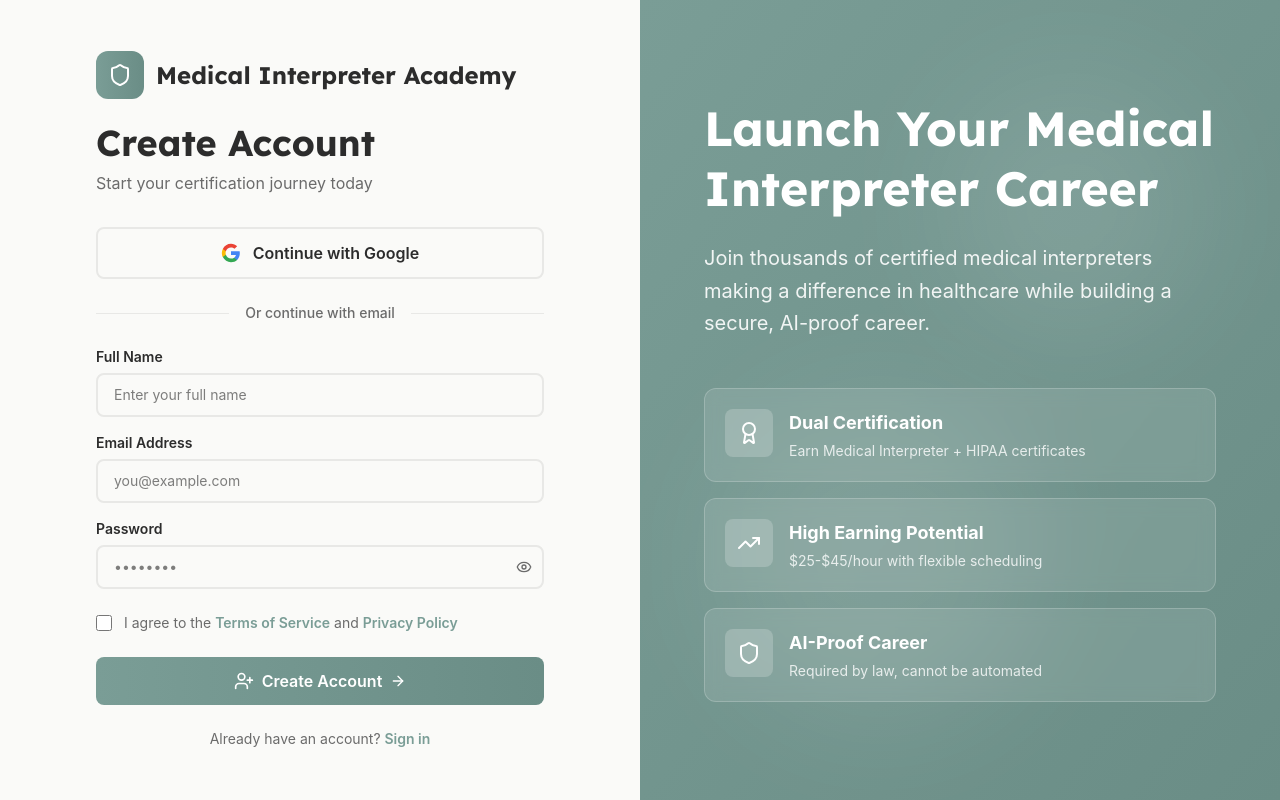
Test: Register Page › Form Validation › should show error if terms not agreed
The width and height of the screenshot is (1280, 800).
In the field labelled "Full Name": (320,395) [96,373,544,417], type "John Doe"
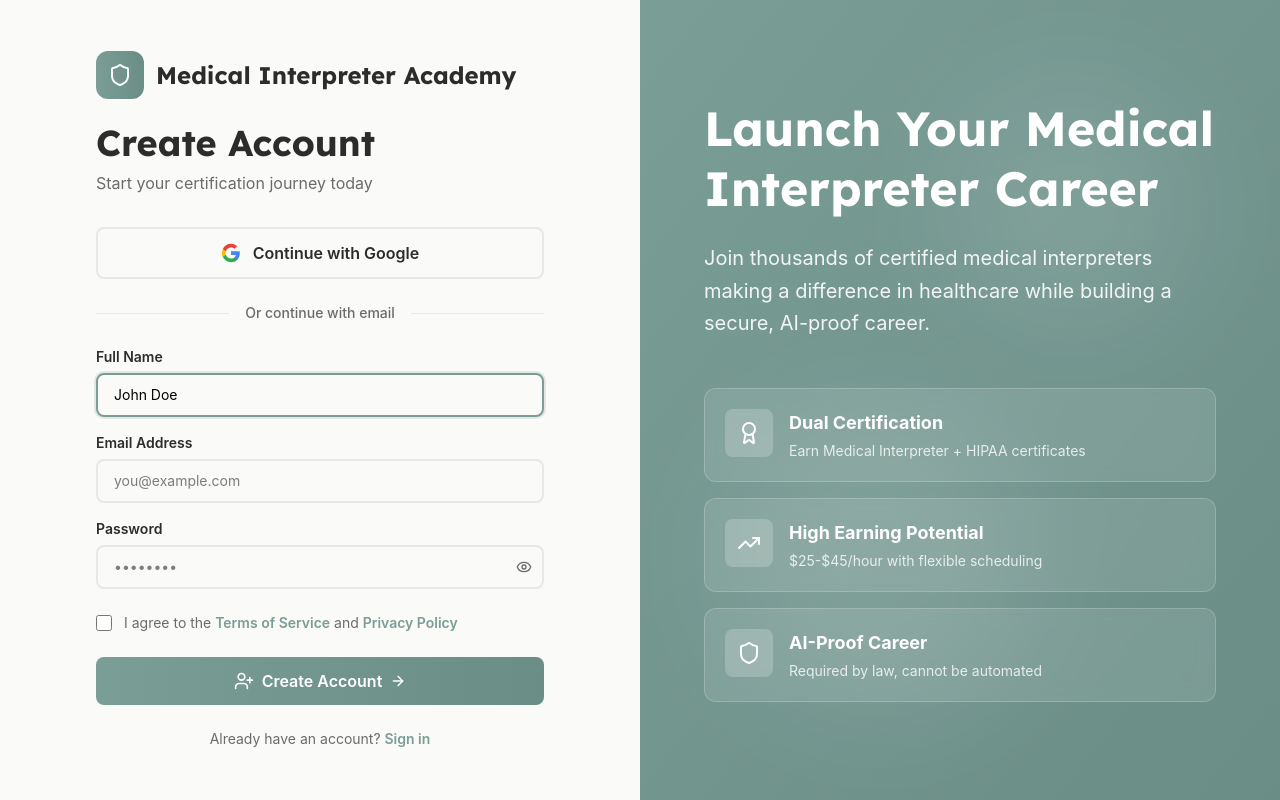
In the field labelled "Email Address": (320,481) [96,459,544,503], type "john@example.com"
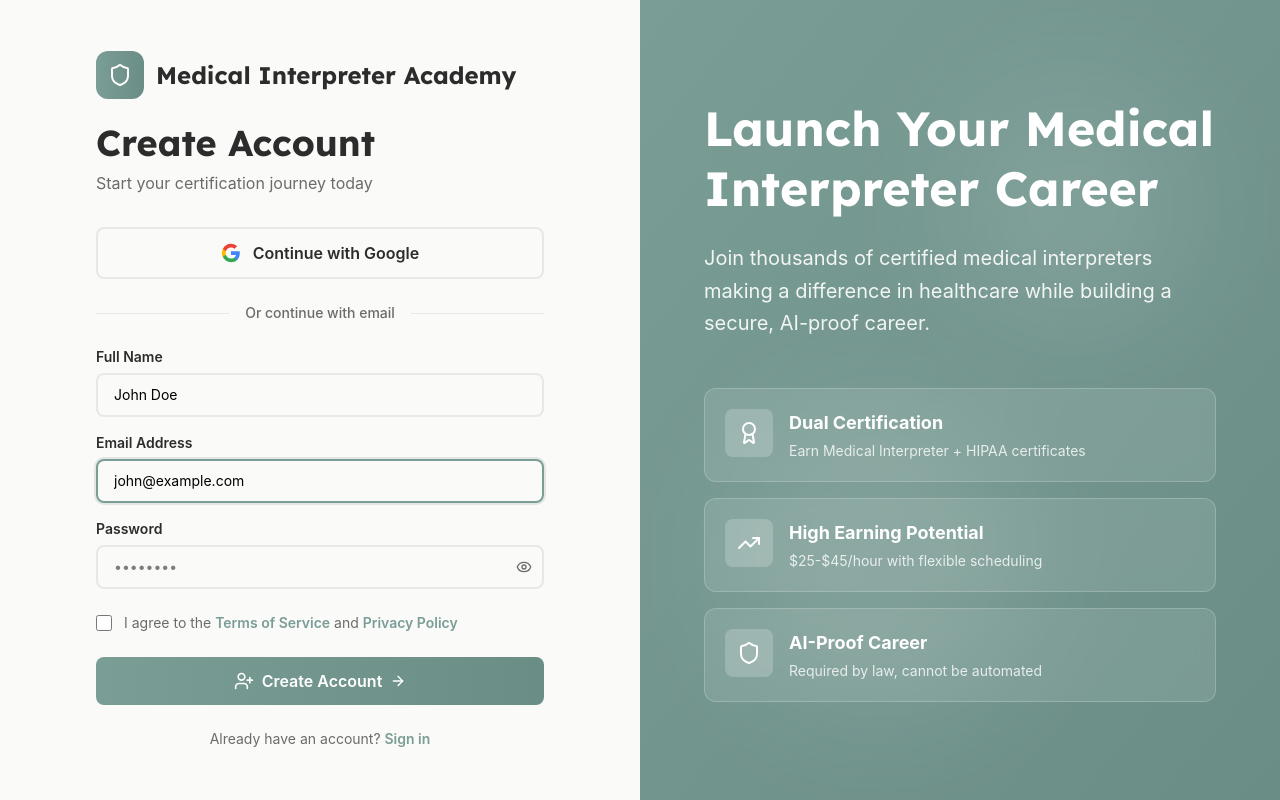
In the password field labelled "Password": (320,567) [96,545,544,589], type "Password123"
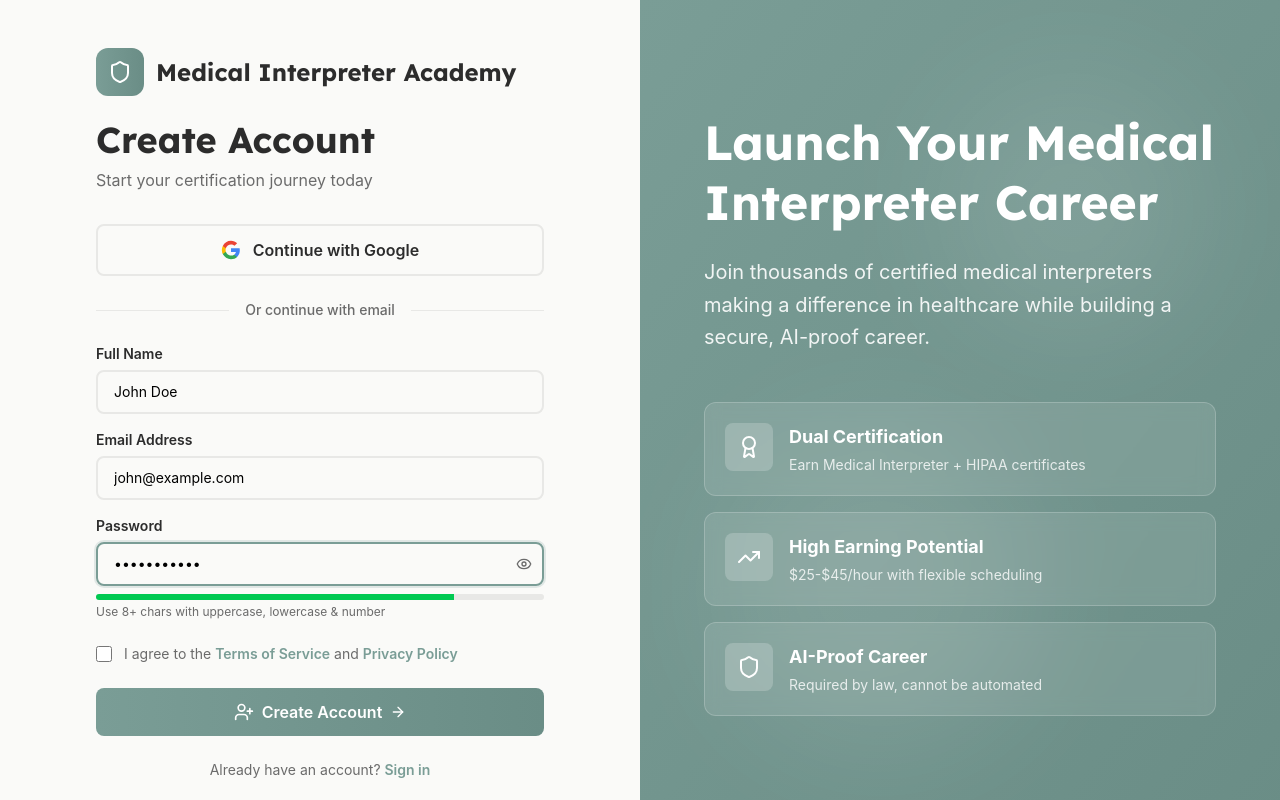
// Don't check terms checkbox
Click the button "Create Account": (320,712) [96,688,544,736]
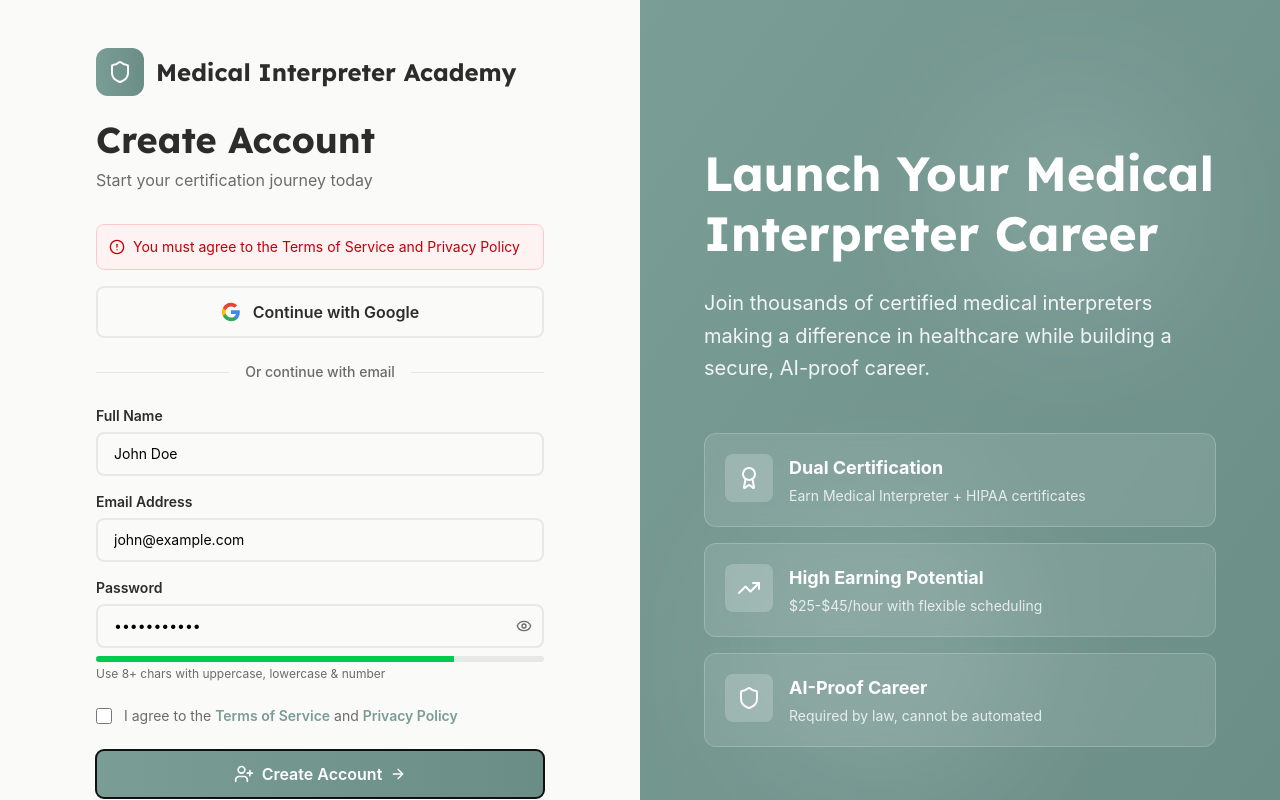
Now the text "You must agree to the Terms of Service and Privacy Policy" is shown, box [133,237,520,257]
